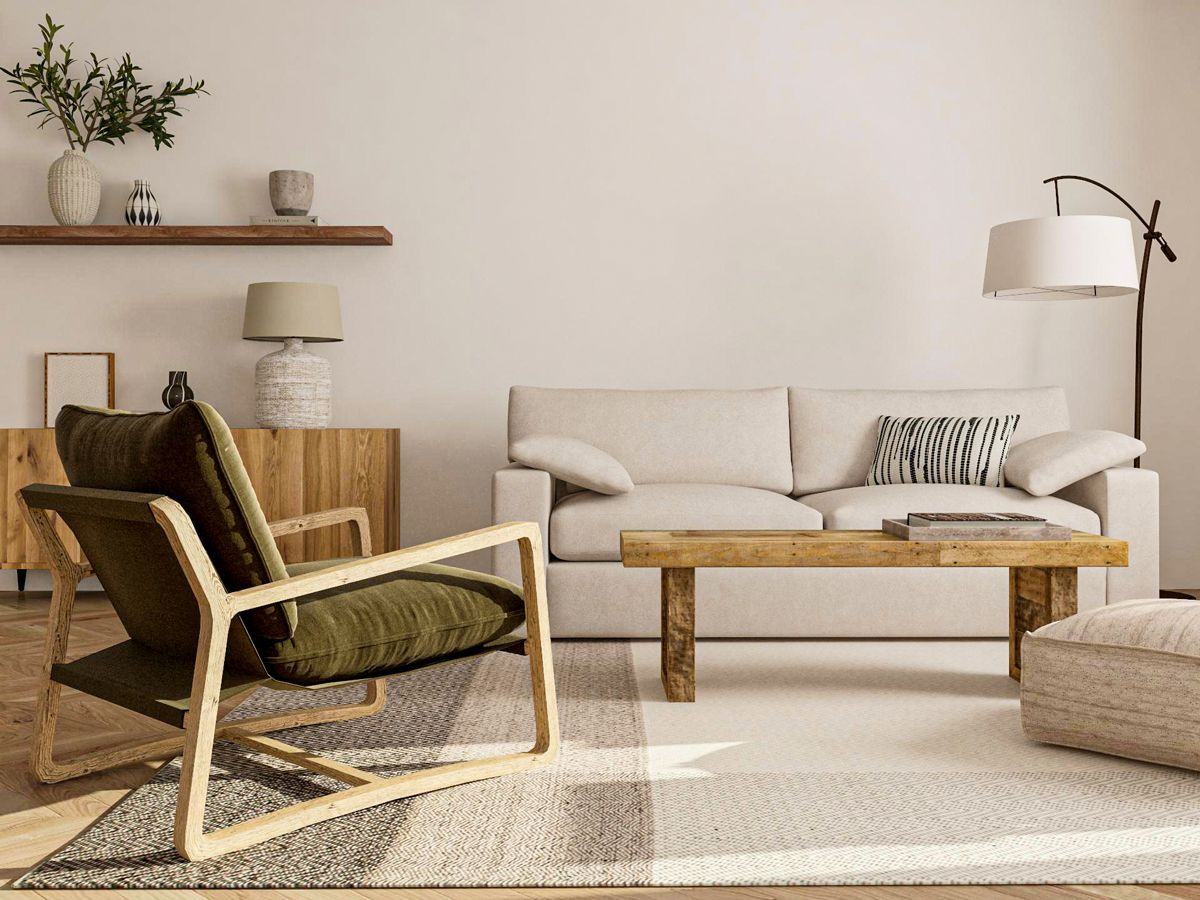chair: (15, 399, 560, 862)
floor lamp: (980, 159, 1184, 474)
small plant: (0, 18, 212, 227)
sofa: (487, 377, 1165, 637)
table: (615, 522, 1132, 707)
table lamp: (237, 272, 356, 429)
